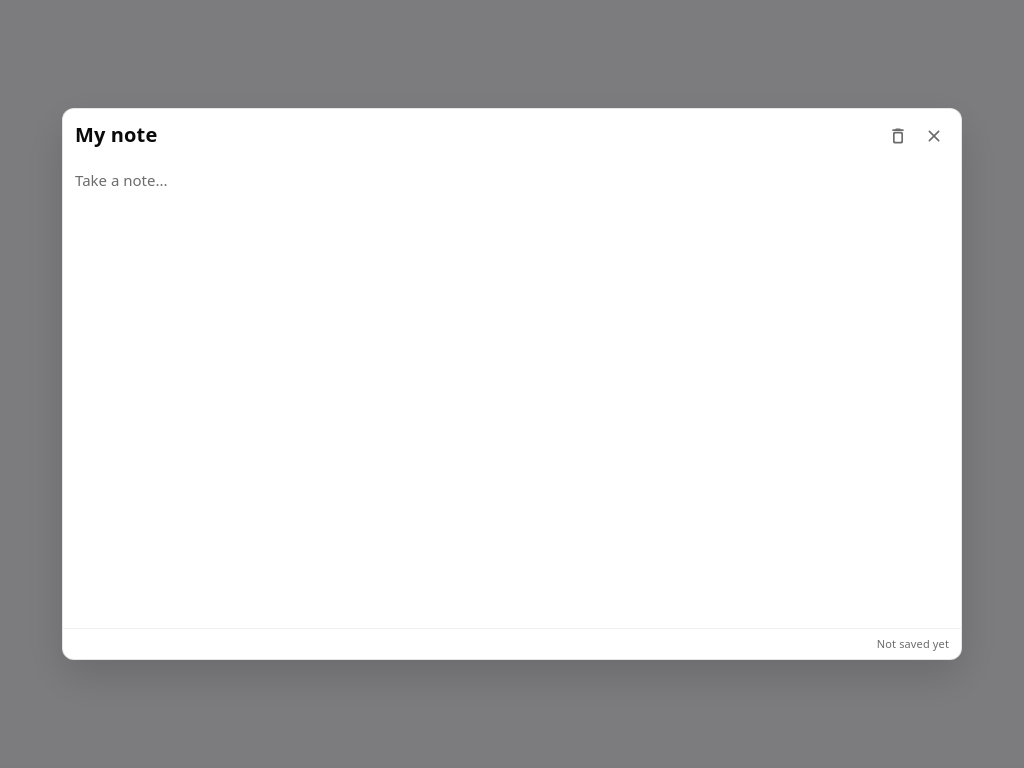
it: ScratchPadEditor — plain Google-Keep surface › opens ConfirmDeleteModal when delete is clicked (matches sibling delete convention)
Expected: the text "Delete this scratch tile?" is not shown
Note: Click the delete icon.
Step 1. Click the button named "Delete tile" → [898, 136], box [883, 121, 913, 151]
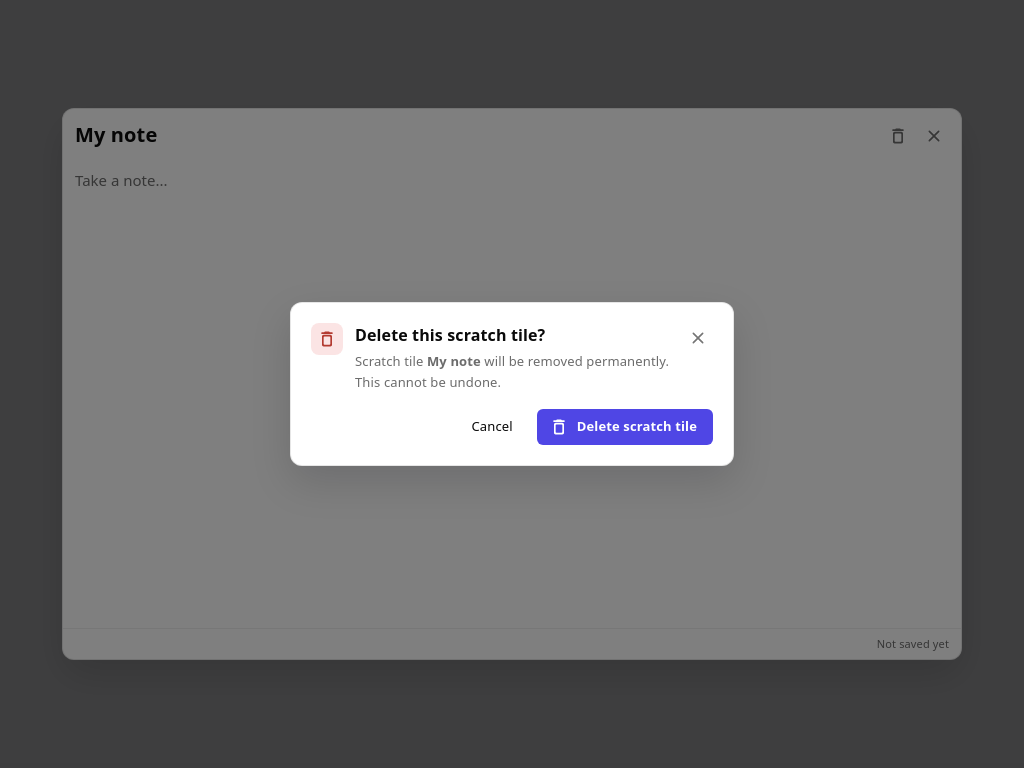
Now the text "Delete this scratch tile?" is shown, box [355, 324, 545, 346]
Now the text "My note" is shown, box [427, 352, 481, 370]
Now the button "Delete scratch tile" is shown, box [537, 409, 713, 445]
